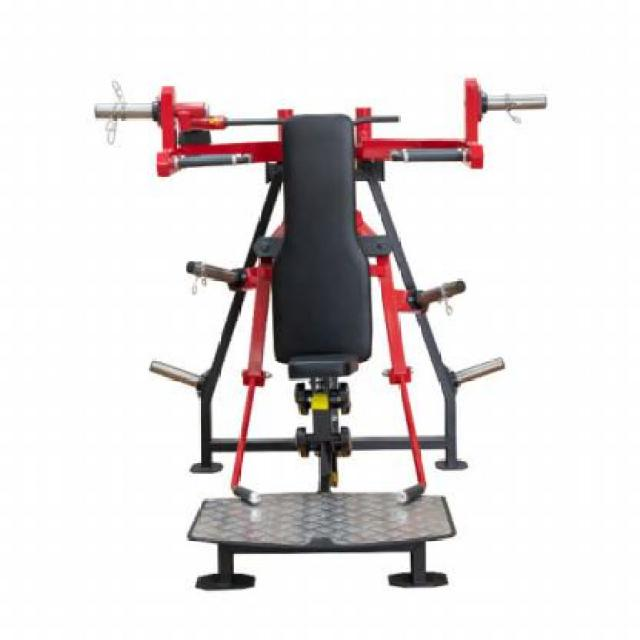shoulder press machine: (80, 82, 548, 592)
